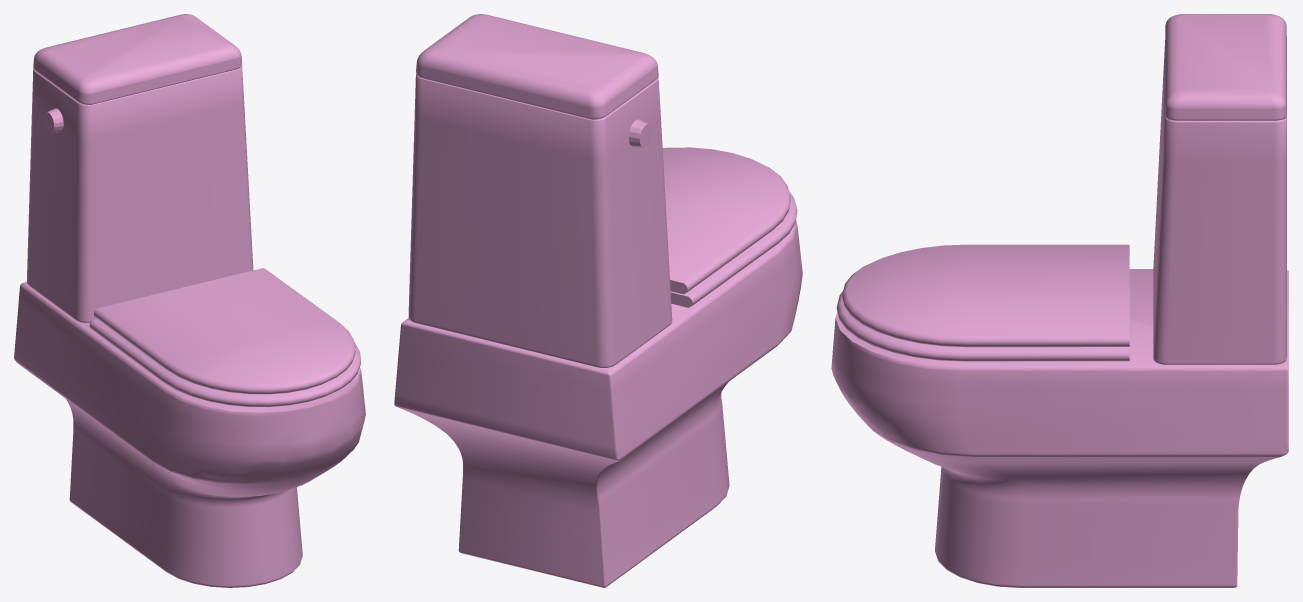
Rendered from toilet.obj.
3 renders of one model, left to right at view 1: azimuth 30°, elevation 25°; view 2: azimuth 150°, elevation 25°; view 3: azimuth 270°, elevation 25°, orthographic. The views are drawn at different scales.
Parts seen in each view (by area): view 1: Layer0_001; view 2: Layer0_001; view 3: Layer0_001.
Part boxes in pixels (box(x1,y1,x2,y2)): Layer0_001: box(14, 14, 365, 587); Layer0_001: box(394, 14, 802, 587); Layer0_001: box(831, 14, 1288, 587).
Bounding box in the file's own units: 365 × 801 × 663.
